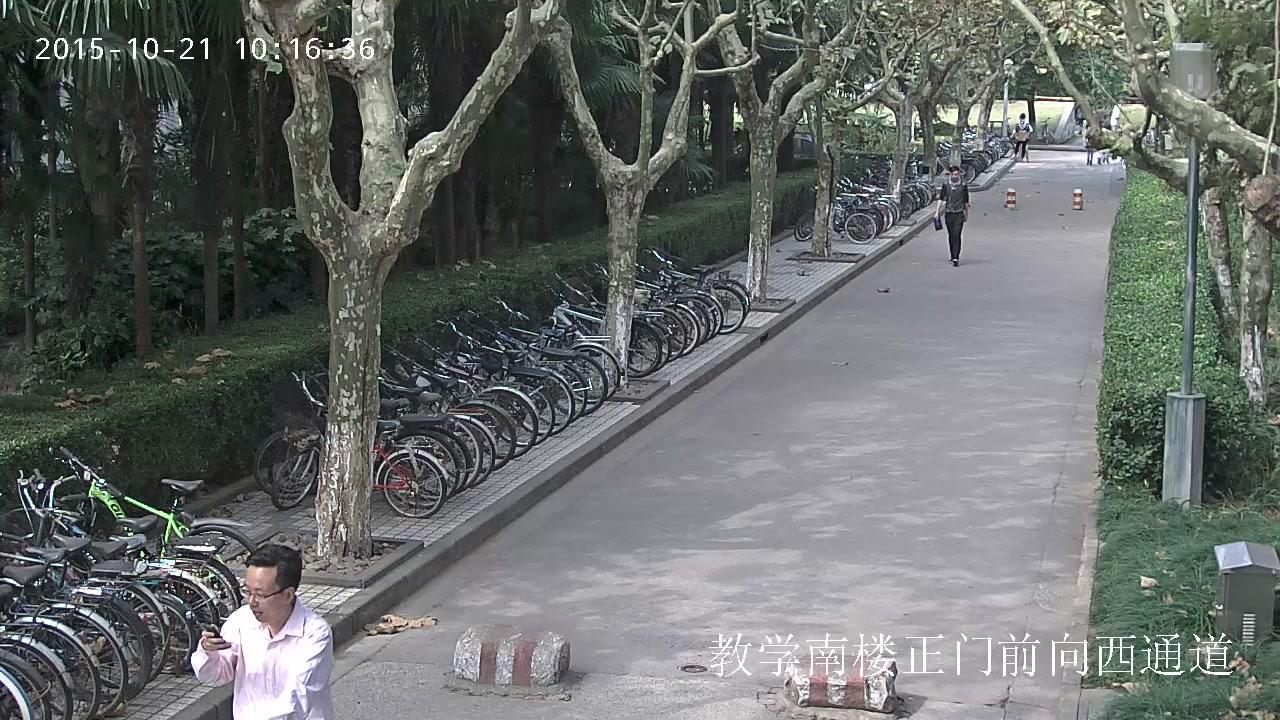face: (244, 565, 283, 622), (949, 169, 959, 181), (1083, 120, 1087, 124), (1101, 122, 1105, 125), (1020, 118, 1023, 122)
